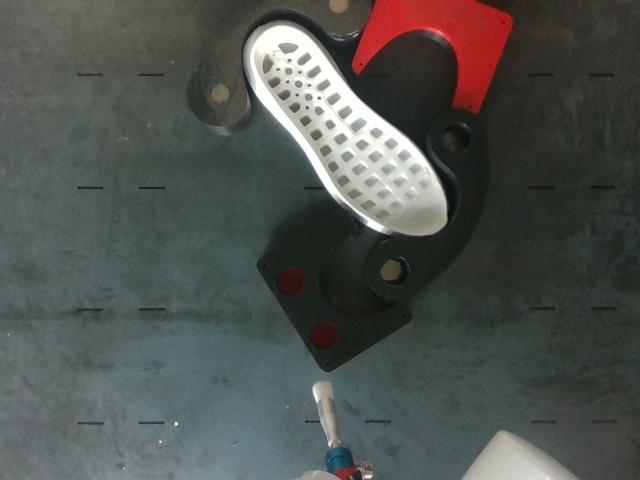shoes: (254, 24, 447, 236)
